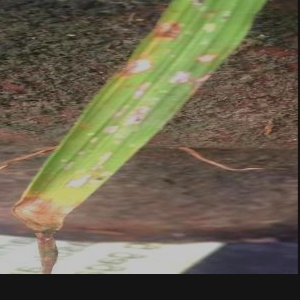Brown_Spot: (152, 11, 188, 47), (110, 51, 153, 79), (156, 64, 197, 93), (197, 43, 226, 70)
